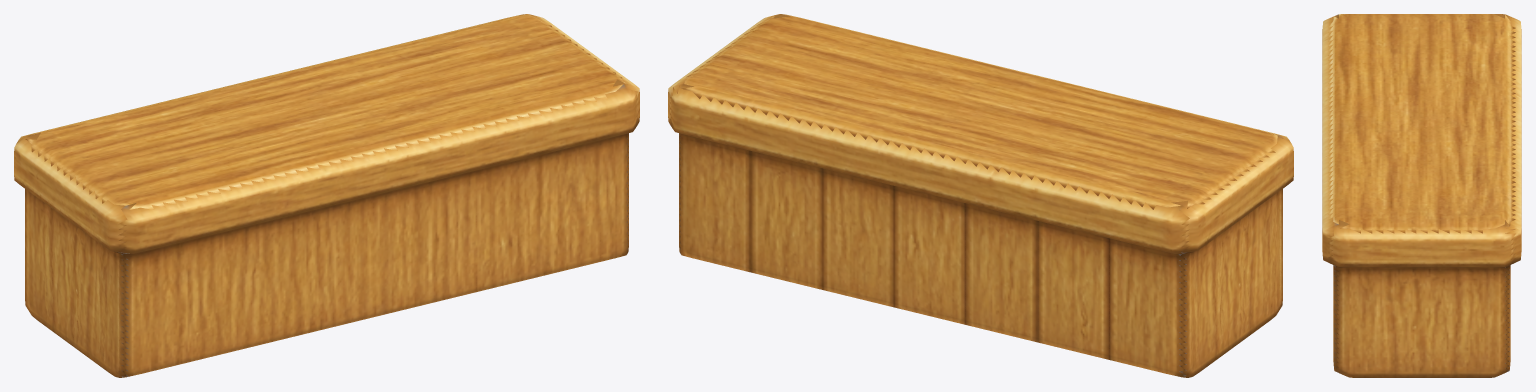
The model's file is potion-counter.glb.
The picture shows the model from 3 angles, left to right: view 1: azimuth 30°, elevation 25°; view 2: azimuth 150°, elevation 25°; view 3: azimuth 270°, elevation 25°; orthographic projection. The views are drawn at different scales.
Size of the model in its own units: 3.12 by 1 by 1.17.
1 material, 1 textured.
